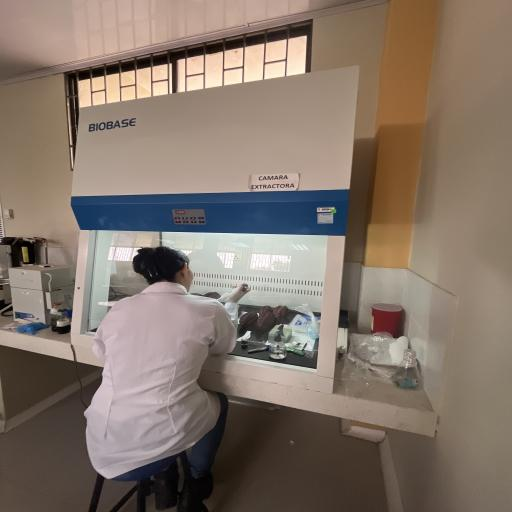Camara_Extractora_Biobase: (55, 60, 388, 409)
